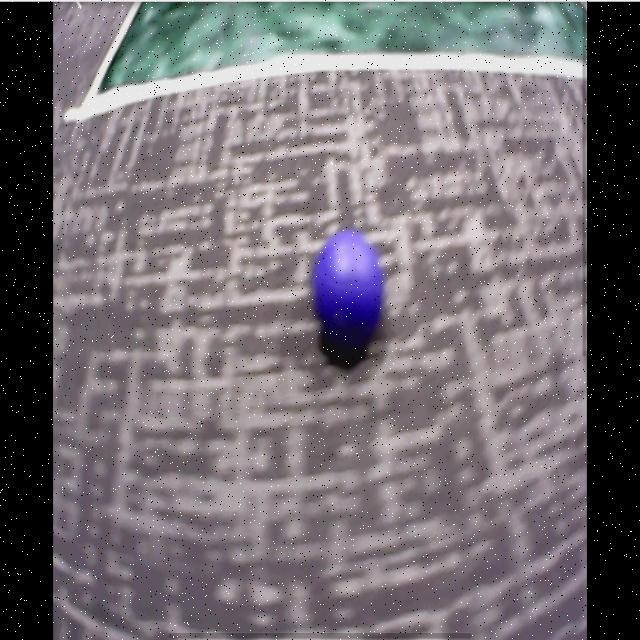ball: (312, 230, 384, 336)
